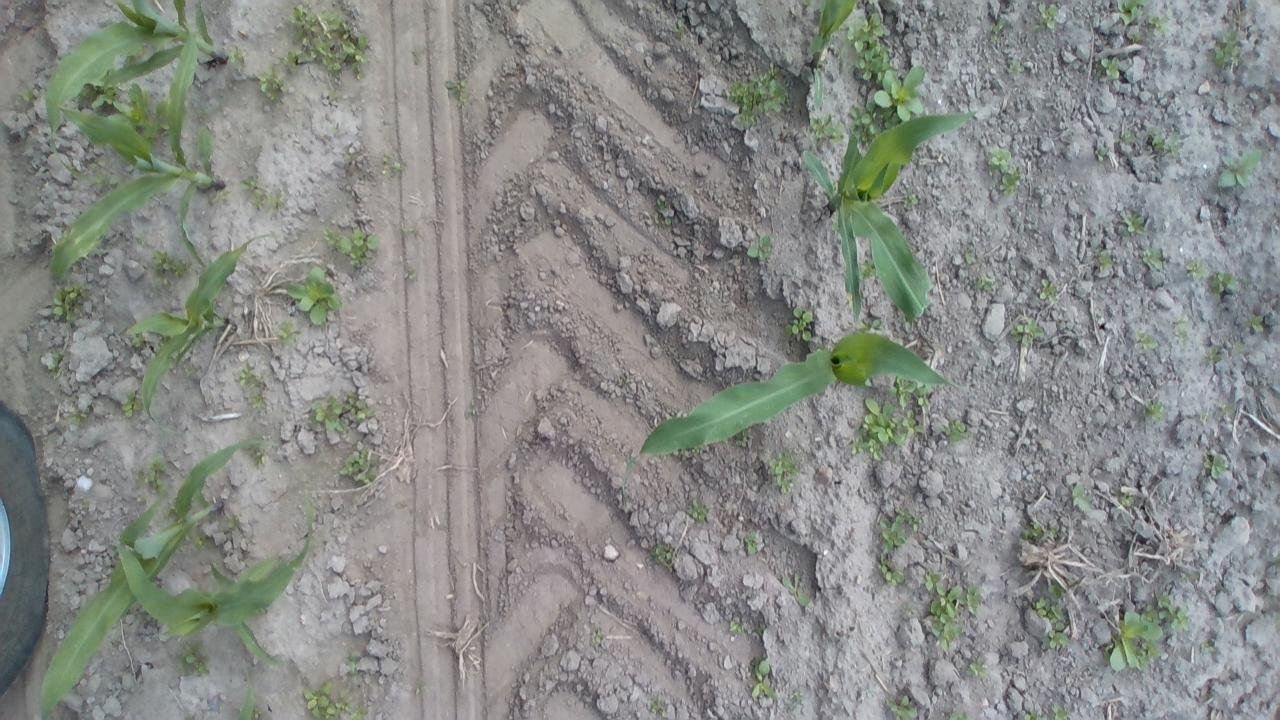Maize: (34, 437, 282, 720), (613, 328, 968, 495), (49, 34, 226, 278), (799, 105, 974, 320), (42, 0, 228, 181), (116, 496, 313, 665), (125, 232, 276, 436), (803, 0, 857, 108), (231, 671, 258, 720)
Weeds: (282, 5, 369, 80), (850, 398, 924, 461), (726, 61, 790, 129), (836, 12, 896, 84), (106, 84, 170, 150), (1103, 604, 1162, 672), (285, 265, 343, 327), (872, 65, 924, 124), (928, 584, 962, 655), (323, 227, 379, 268), (1216, 148, 1262, 190), (887, 374, 932, 410), (339, 448, 378, 488), (150, 248, 188, 288), (52, 282, 88, 324), (68, 80, 118, 110), (308, 395, 348, 432), (849, 102, 882, 146), (1157, 590, 1190, 631), (303, 680, 336, 720), (176, 640, 211, 677), (769, 450, 798, 494), (809, 112, 844, 146), (144, 454, 172, 496), (1148, 126, 1184, 158), (749, 660, 777, 700), (90, 163, 130, 191), (1031, 598, 1065, 630), (878, 517, 907, 554), (780, 572, 810, 607), (785, 306, 814, 342), (1212, 30, 1238, 69), (256, 65, 284, 100), (1010, 317, 1044, 344), (877, 554, 905, 584), (1116, 0, 1148, 26), (347, 394, 376, 422), (1210, 272, 1238, 301), (1030, 4, 1058, 32), (887, 695, 918, 720), (940, 420, 972, 443), (122, 389, 146, 418), (894, 506, 920, 532), (444, 78, 470, 103), (746, 236, 773, 260), (238, 365, 264, 389), (1204, 453, 1228, 479), (999, 167, 1020, 196), (185, 530, 212, 552), (1174, 314, 1192, 347), (1072, 485, 1094, 512), (252, 189, 280, 210), (124, 45, 152, 66), (960, 586, 981, 614), (1141, 246, 1164, 270), (277, 321, 299, 346), (986, 148, 1011, 170), (382, 150, 404, 174), (654, 196, 671, 226), (687, 499, 709, 522), (652, 541, 674, 564), (1042, 630, 1070, 648), (1122, 214, 1144, 236), (1096, 58, 1120, 78), (1134, 330, 1158, 350), (1020, 522, 1044, 542), (230, 44, 247, 72), (246, 388, 268, 409), (966, 656, 987, 678), (1039, 278, 1057, 303), (336, 690, 353, 716), (47, 350, 62, 378), (1148, 14, 1169, 34), (858, 258, 877, 280), (989, 20, 1006, 44), (1144, 400, 1164, 420), (1096, 250, 1114, 272), (1186, 260, 1208, 278), (857, 318, 881, 334), (1244, 313, 1264, 332), (1048, 580, 1066, 600), (923, 570, 941, 590), (733, 426, 749, 447), (744, 530, 758, 554), (16, 86, 34, 104), (650, 698, 667, 717), (1118, 130, 1140, 144), (1050, 703, 1068, 720), (348, 652, 360, 676), (672, 447, 700, 457), (672, 18, 686, 38), (902, 192, 918, 209), (976, 276, 994, 291), (350, 705, 368, 720), (1208, 345, 1222, 364), (162, 503, 178, 519), (1023, 709, 1045, 720), (729, 620, 746, 634), (250, 448, 263, 465), (239, 176, 256, 189), (130, 332, 144, 347), (206, 561, 218, 578), (68, 413, 86, 424), (1120, 492, 1134, 506), (1219, 402, 1235, 414), (963, 248, 974, 265), (1009, 60, 1024, 72), (212, 190, 228, 201), (398, 225, 417, 234), (950, 711, 969, 720), (182, 362, 195, 375), (790, 690, 804, 702), (1095, 147, 1107, 161), (132, 473, 144, 486), (1196, 412, 1209, 424), (404, 267, 416, 280), (158, 334, 170, 346), (592, 630, 602, 644), (902, 604, 916, 614), (1232, 342, 1245, 352), (800, 0, 816, 8), (228, 515, 237, 529), (252, 707, 262, 719), (1202, 642, 1214, 652), (135, 233, 146, 243), (1132, 31, 1142, 42), (754, 626, 764, 636), (416, 684, 426, 694), (832, 219, 840, 231), (328, 90, 338, 99), (256, 608, 270, 614), (466, 408, 474, 418), (1050, 526, 1058, 536), (81, 498, 88, 509), (198, 109, 209, 116), (346, 154, 358, 160), (183, 714, 194, 720), (816, 343, 824, 351), (138, 496, 146, 503)
